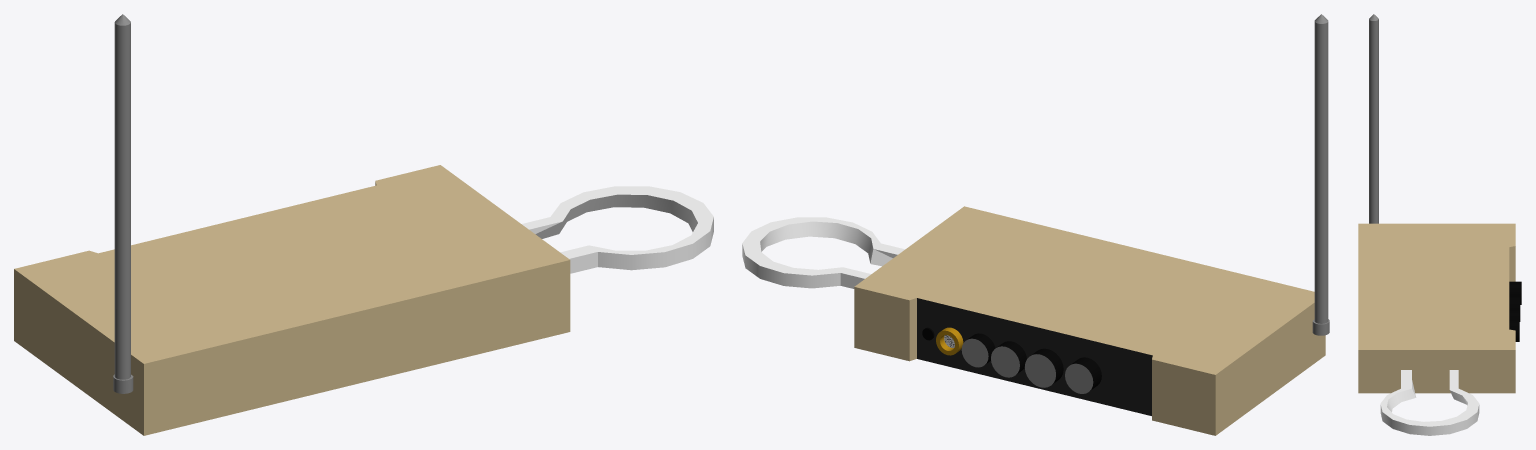
3 views of the same model, side by side, from view 1: azimuth 30°, elevation 25°; view 2: azimuth 150°, elevation 25°; view 3: azimuth 270°, elevation 25° (orthographic). The views are drawn at different scales.
Visible parts, largest first — view 1: Theremin_box_1, Curved_antenna_1, group_0; view 2: Theremin_box_1 (×6), Curved_antenna_1, group_0; view 3: Theremin_box_1 (×3), Curved_antenna_1, group_0.
Boxes of the visible parts, box(x1,y1,x2,y2) form: Theremin_box_1: box(14, 165, 570, 435); Curved_antenna_1: box(522, 186, 713, 273); group_0: box(114, 14, 130, 379); Theremin_box_1 (×6): box(854, 206, 1325, 435); Curved_antenna_1: box(742, 217, 904, 288); group_0: box(1314, 14, 1328, 323); Theremin_box_1 (×3): box(1358, 223, 1521, 393); Curved_antenna_1: box(1380, 370, 1479, 435); group_0: box(1369, 14, 1378, 223).
Bounding box in the file's own units: 360 × 132 × 224.
